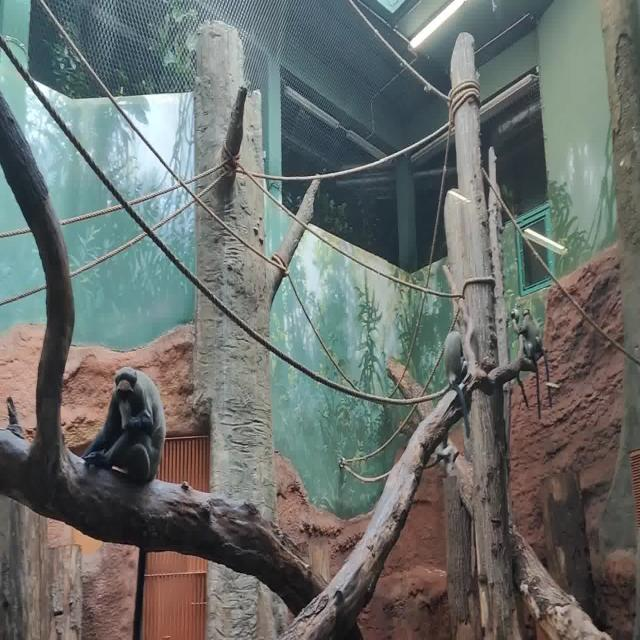monkey: (82, 367, 166, 485), (518, 308, 552, 409), (444, 331, 470, 439)
